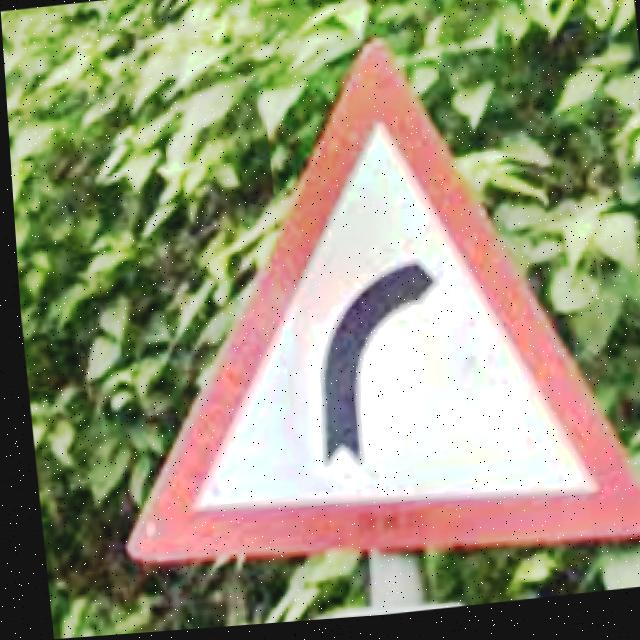rightbend: (120, 49, 640, 568)
